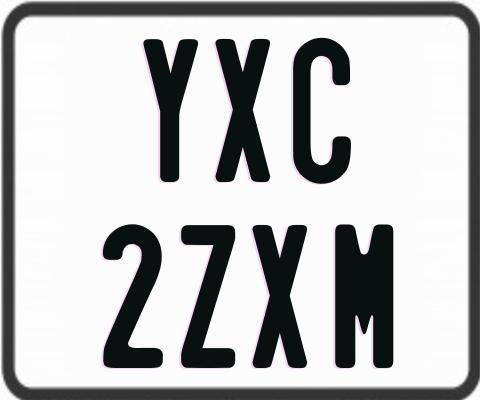2: (103, 221, 168, 366)
C: (293, 37, 353, 189)
M: (335, 224, 396, 368)
X: (213, 36, 274, 180), (252, 224, 309, 367)
Y: (142, 37, 199, 183)
Z: (180, 223, 240, 372)
